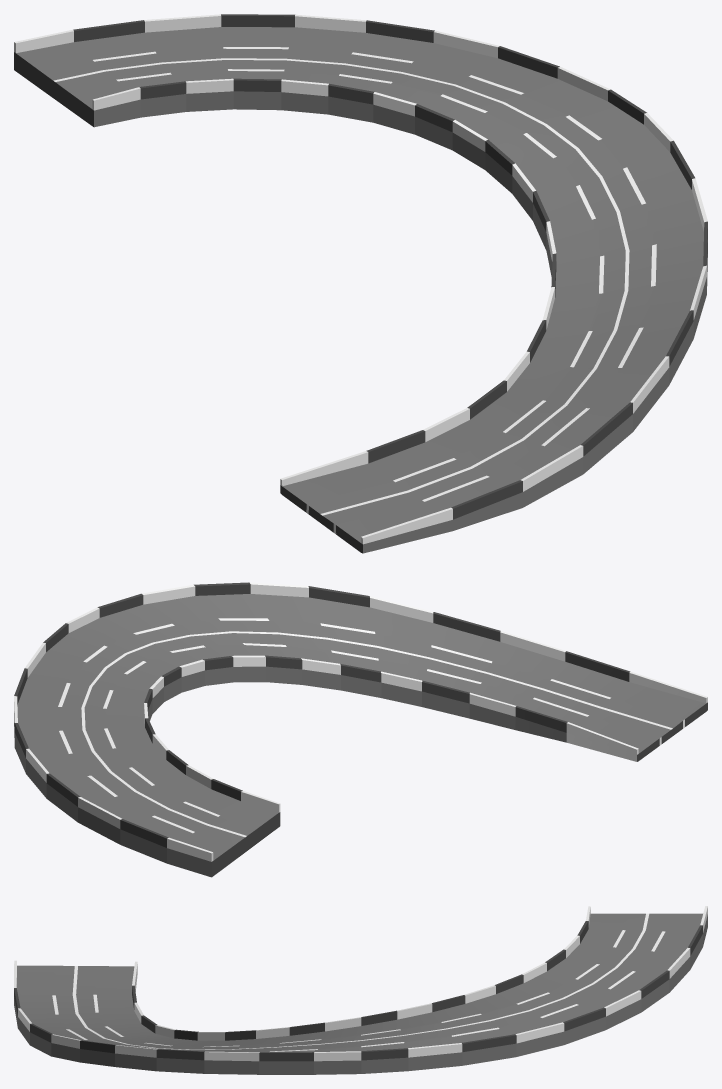
The model's file is SM_Road_P1.fbx.
3 renders of one model, top to bottom at view 1: azimuth 30°, elevation 25°; view 2: azimuth 150°, elevation 25°; view 3: azimuth 270°, elevation 25°, orthographic. The views are drawn at different scales.
Visible parts, largest first — view 1: SM_Road_P1; view 2: SM_Road_P1; view 3: SM_Road_P1.
Boxes of the visible parts, x1,y1,x2,y2 form: SM_Road_P1: [14, 14, 707, 553]; SM_Road_P1: [14, 582, 707, 877]; SM_Road_P1: [14, 906, 707, 1074].
Bounding box in the file's own units: 5976 × 1627 × 9295.
